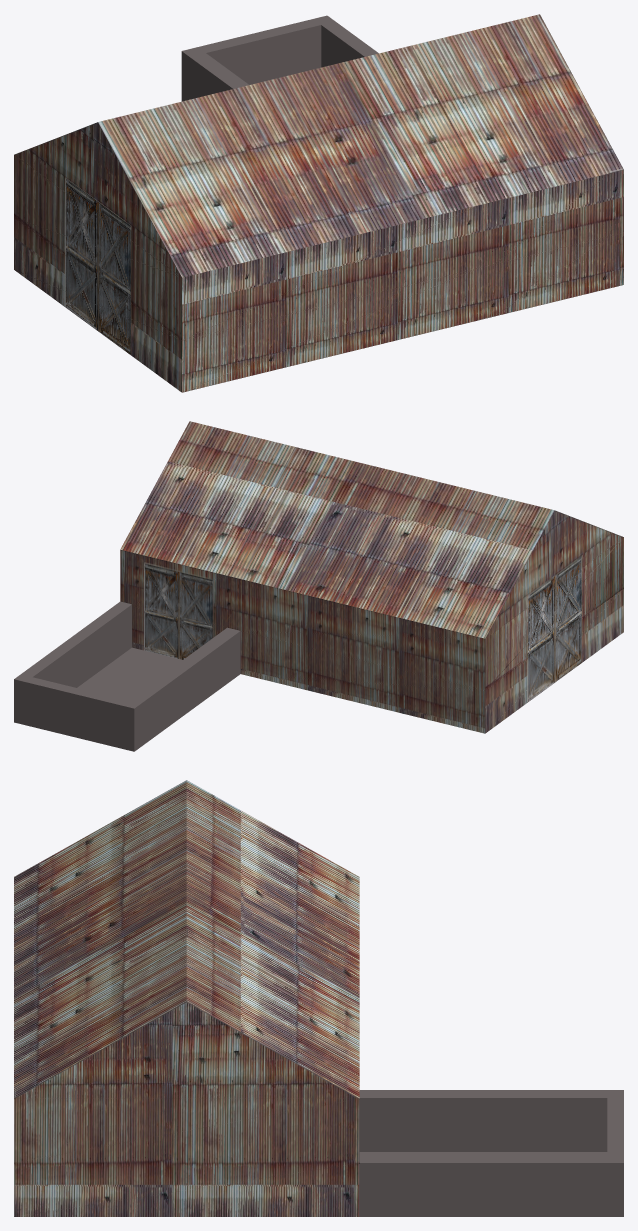
File: barn.fbx
3 views of the same model, one above another, from view 1: azimuth 30°, elevation 25°; view 2: azimuth 150°, elevation 25°; view 3: azimuth 270°, elevation 25° (orthographic). The views are drawn at different scales.
Parts seen in each view (by area): view 1: Cube; view 2: Cube; view 3: Cube.
Boxes of the visible parts, box(x1,y1,x2,y2) form: Cube: box(14, 14, 623, 392); Cube: box(14, 421, 623, 751); Cube: box(14, 780, 623, 1216).
Bounding box in the file's own units: 35.37 × 16 × 41.12.
1 material, 1 textured.
